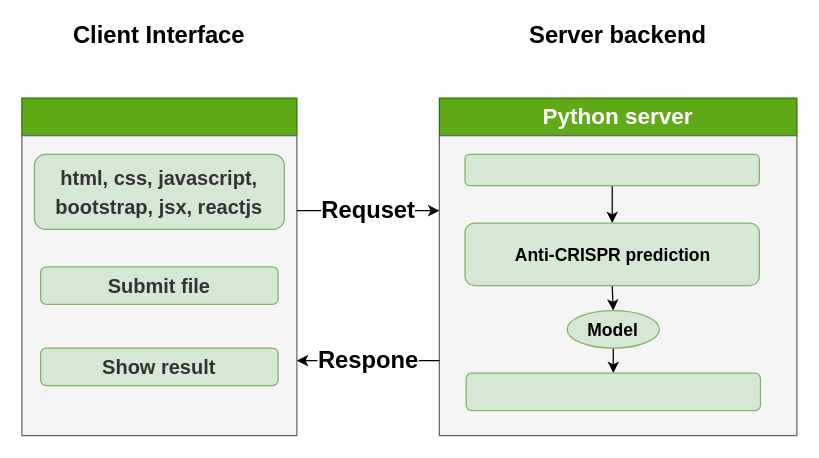
Image size: 819x458. Some labels were removed from this diagram. Here are the shapes that lost their labels. From the top down, the centre of each, then its label:
(x=159, y=116): Web Page
(x=611, y=169): feature encoding
(x=612, y=391): Prediction result
